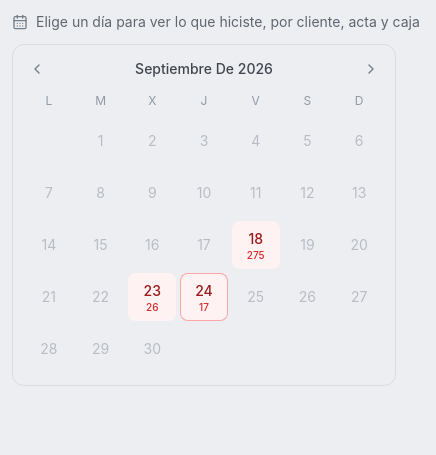
it: el calendario de días trabajados › se puede pasar al mes anterior
This screenshot has width=436, height=455.
Click the button named "Mes anterior": (37, 69) [25,57,49,81]
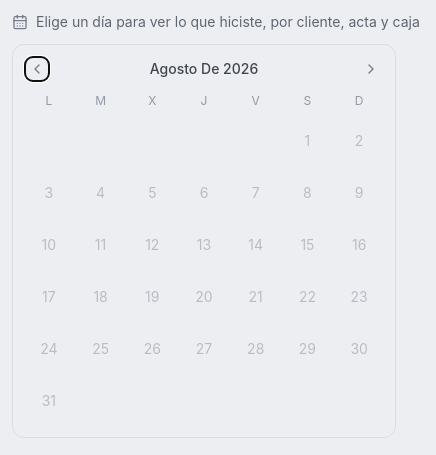
Now the text "agosto de 2026" is shown, box [150,59,258,79]
